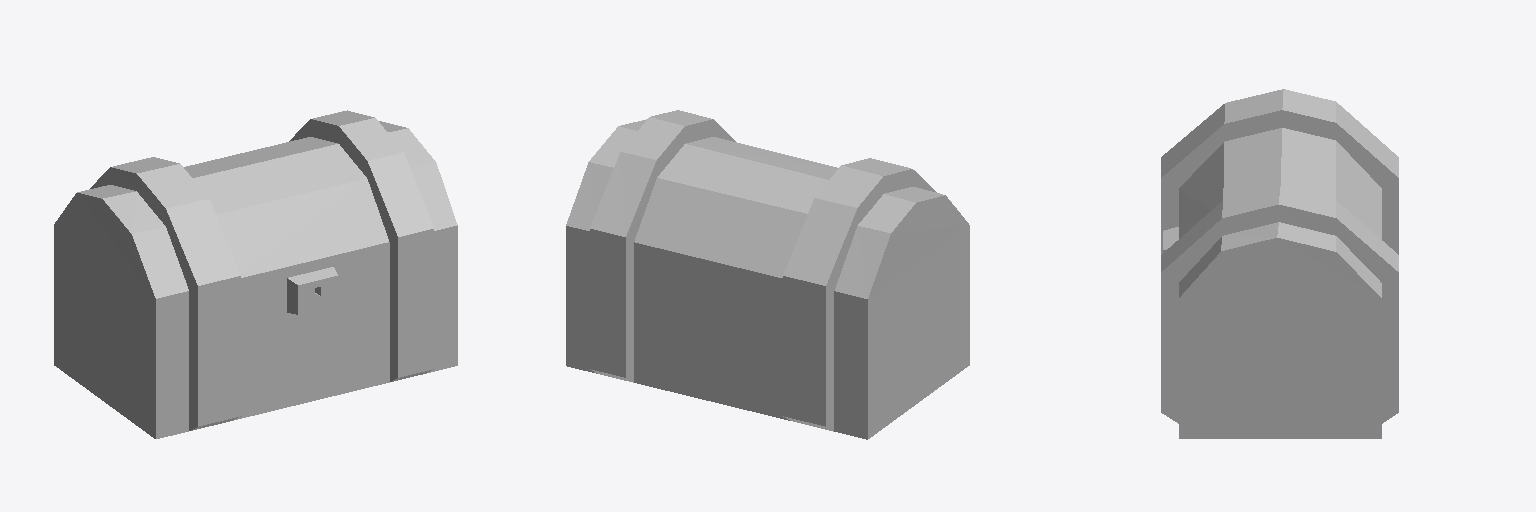
The model's file is bau.obj.
The picture shows the model from 3 angles: view 1: azimuth 30°, elevation 25°; view 2: azimuth 150°, elevation 25°; view 3: azimuth 270°, elevation 25°; orthographic projection.
Parts seen in each view (by area): view 1: Cube.001; view 2: Cube.001; view 3: Cube.001.
Part boxes in pixels (bbox=[...]): Cube.001: bbox=[54, 110, 457, 438]; Cube.001: bbox=[566, 110, 969, 439]; Cube.001: bbox=[1161, 89, 1398, 438].
Bounding box in the file's own units: 0.4169 × 0.2889 × 0.2832.